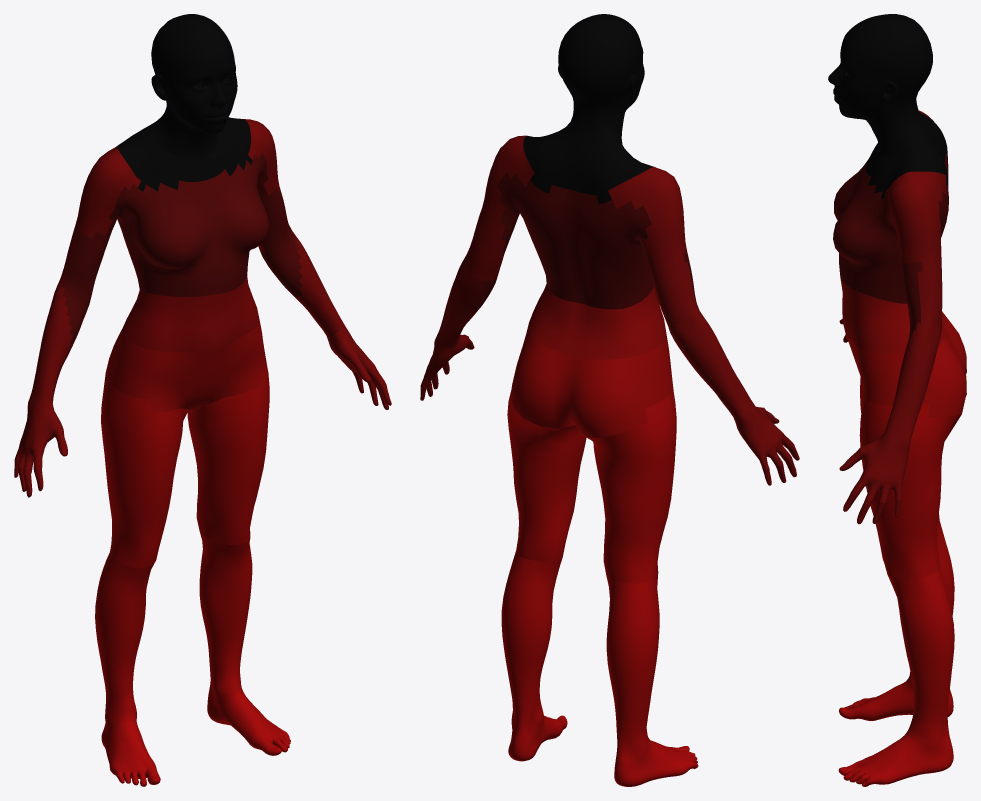
The model's file is body_female.glb.
3 renders of one model, left to right at view 1: azimuth 30°, elevation 25°; view 2: azimuth 150°, elevation 25°; view 3: azimuth 270°, elevation 25°, orthographic.
Visible parts, largest first — view 1: GEO-body_female_realistic; view 2: GEO-body_female_realistic; view 3: GEO-body_female_realistic.
Boxes of the visible parts, bbox=[...] form: GEO-body_female_realistic: bbox=[14, 14, 391, 786]; GEO-body_female_realistic: bbox=[420, 14, 799, 786]; GEO-body_female_realistic: bbox=[828, 14, 966, 786].
Size of the model in its own units: 0.8422 by 1.64 by 0.2826.
